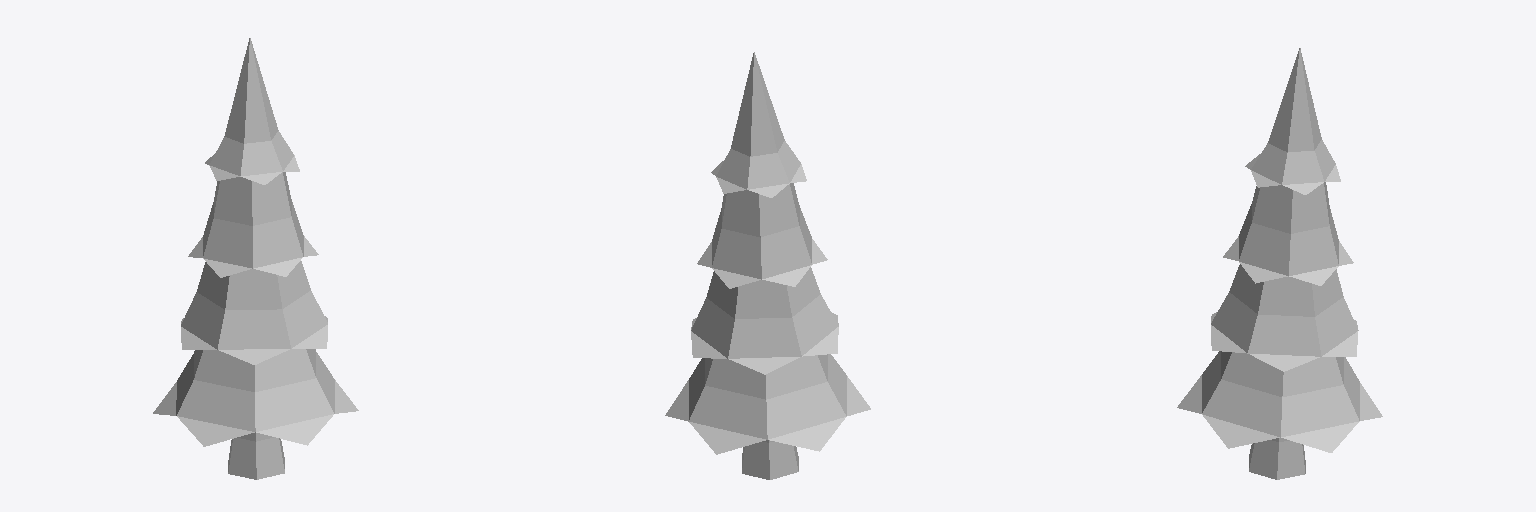
The model's file is Pine_4.obj.
The picture shows the model from 3 angles: view 1: azimuth 30°, elevation 25°; view 2: azimuth 150°, elevation 25°; view 3: azimuth 270°, elevation 25°; orthographic projection.
Parts seen in each view (by area): view 1: Pine_4; view 2: Pine_4; view 3: Pine_4.
Boxes of the visible parts, x1,y1,x2,y2 form: Pine_4: [153, 38, 358, 479]; Pine_4: [665, 52, 870, 479]; Pine_4: [1177, 48, 1382, 479].
Bounding box in the file's own units: 1.18 × 3.01 × 1.33.